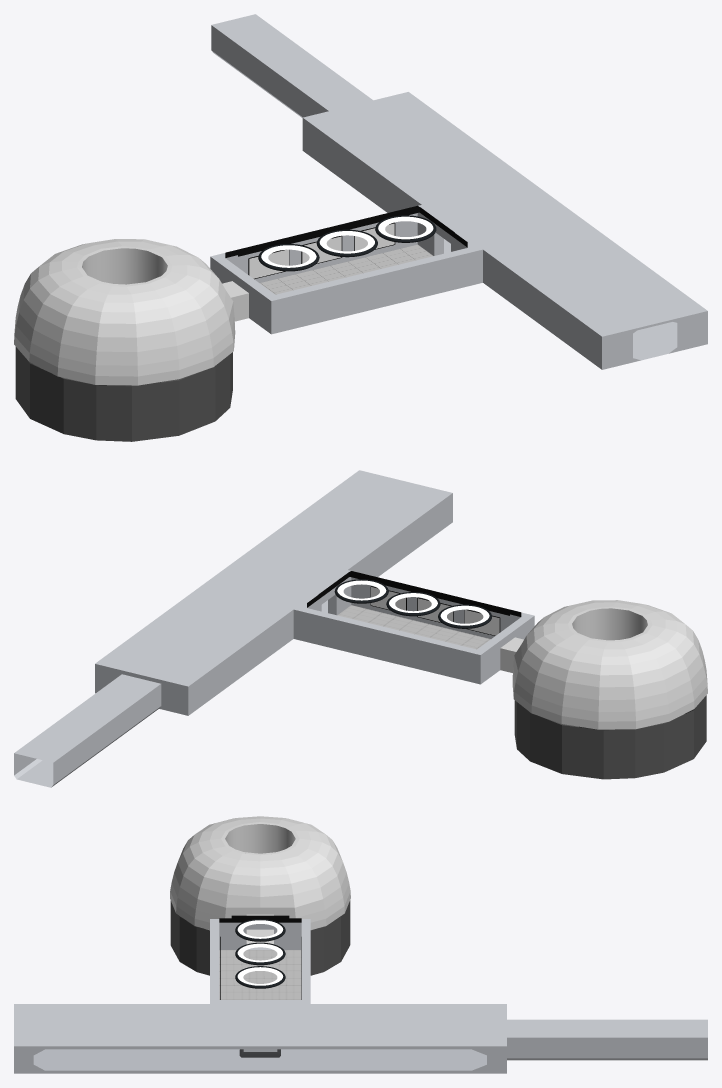
File: room.glb
3 views of the same model, one above another, from view 1: azimuth 30°, elevation 25°; view 2: azimuth 150°, elevation 25°; view 3: azimuth 270°, elevation 25° (orthographic). The views are drawn at different scales.
Parts seen in each view (by area): view 1: Connector, Dome, Lobby, Launcher, LauncherBarrel, LobbyFloor, CeilingLight3, CeilingLight2, CeilingLight, Screen; view 2: Connector, Dome, Lobby, Launcher, LauncherBarrel, LobbyFloor, CeilingLight, CeilingLight2, CeilingLight3, Screen6; view 3: Connector, Dome, Lobby, Launcher, LobbyFloor, LauncherBarrel, CeilingLight, CeilingLight2, CeilingLight3.
Part boxes in pixels (<box>): Connector: <box>211,14,707,369</box>; Dome: <box>14,239,248,385</box>; Lobby: <box>210,205,482,334</box>; Launcher: <box>15,347,232,441</box>; LauncherBarrel: <box>77,246,172,286</box>; LobbyFloor: <box>259,244,433,294</box>; CeilingLight3: <box>375,215,436,242</box>; CeilingLight2: <box>258,244,319,271</box>; CeilingLight: <box>316,229,377,257</box>; Screen: <box>248,249,289,279</box>; Connector: <box>14,470,452,787</box>; Dome: <box>500,600,707,729</box>; Lobby: <box>293,570,534,684</box>; Launcher: <box>514,695,706,779</box>; LauncherBarrel: <box>568,606,652,642</box>; LobbyFloor: <box>337,605,490,649</box>; CeilingLight: <box>386,592,440,616</box>; CeilingLight2: <box>438,604,492,628</box>; CeilingLight3: <box>334,579,388,603</box>; Screen6: <box>464,609,500,635</box>; Connector: <box>14,1004,707,1073</box>; Dome: <box>170,816,350,944</box>; Lobby: <box>210,915,310,1003</box>; Launcher: <box>170,900,350,975</box>; LobbyFloor: <box>219,950,301,999</box>; LauncherBarrel: <box>223,823,296,854</box>; CeilingLight: <box>235,942,285,965</box>; CeilingLight2: <box>235,919,285,941</box>; CeilingLight3: <box>235,966,285,988</box>.
Bounding box in the file's own units: 49.97 × 11.69 × 69.
Materials: 24 (2 with a texture image).
